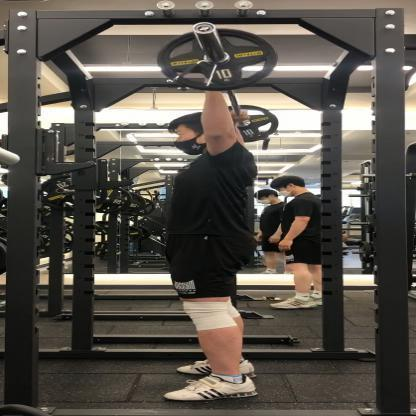barbell: (157, 24, 280, 143)
